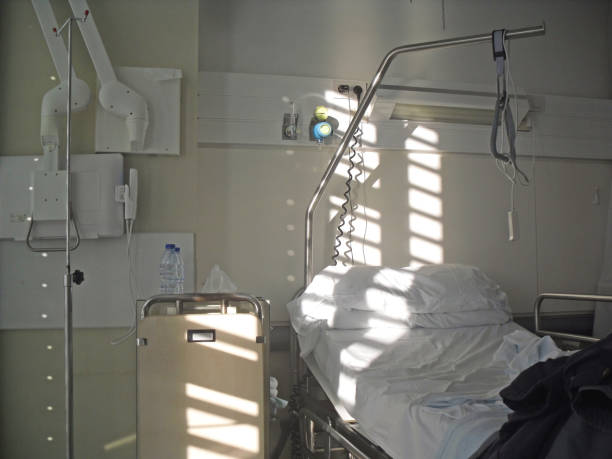bedrail: (531, 293, 612, 351)
hospital_bed: (286, 263, 612, 459)
iv_pole: (52, 6, 90, 459)
utility_cart: (123, 286, 279, 456)
